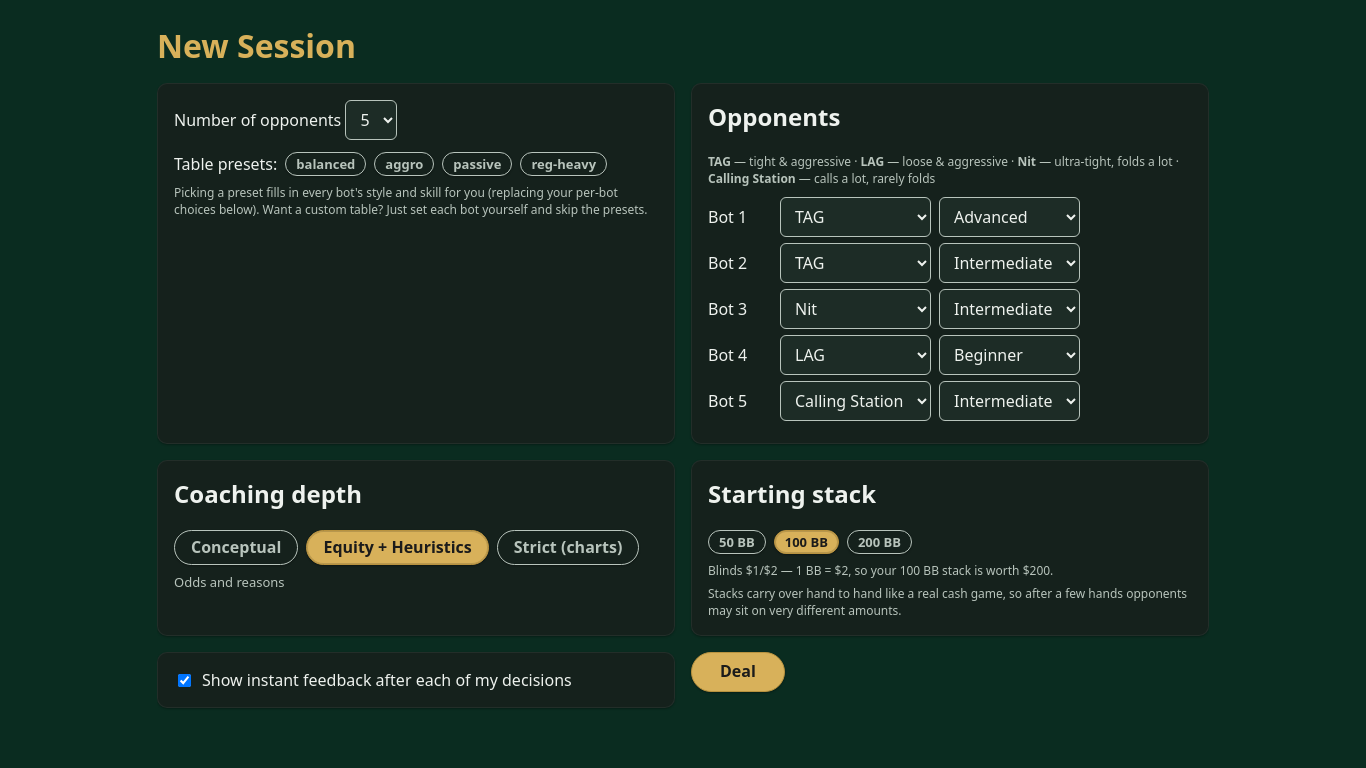
Test: SetupScreen › renders one persona row per opponent and resizes when count changes
This screenshot has width=1366, height=768.
Expected: the number of dropdowns named "Style for Bot" is 5, [780,197,931,237]; [780,243,931,283]; [780,289,931,329]; [780,335,931,375]; [780,381,931,421]
Select "3" in the dropdown labelled "Number of opponents". click: (371, 120)
box: [345,100,397,140]
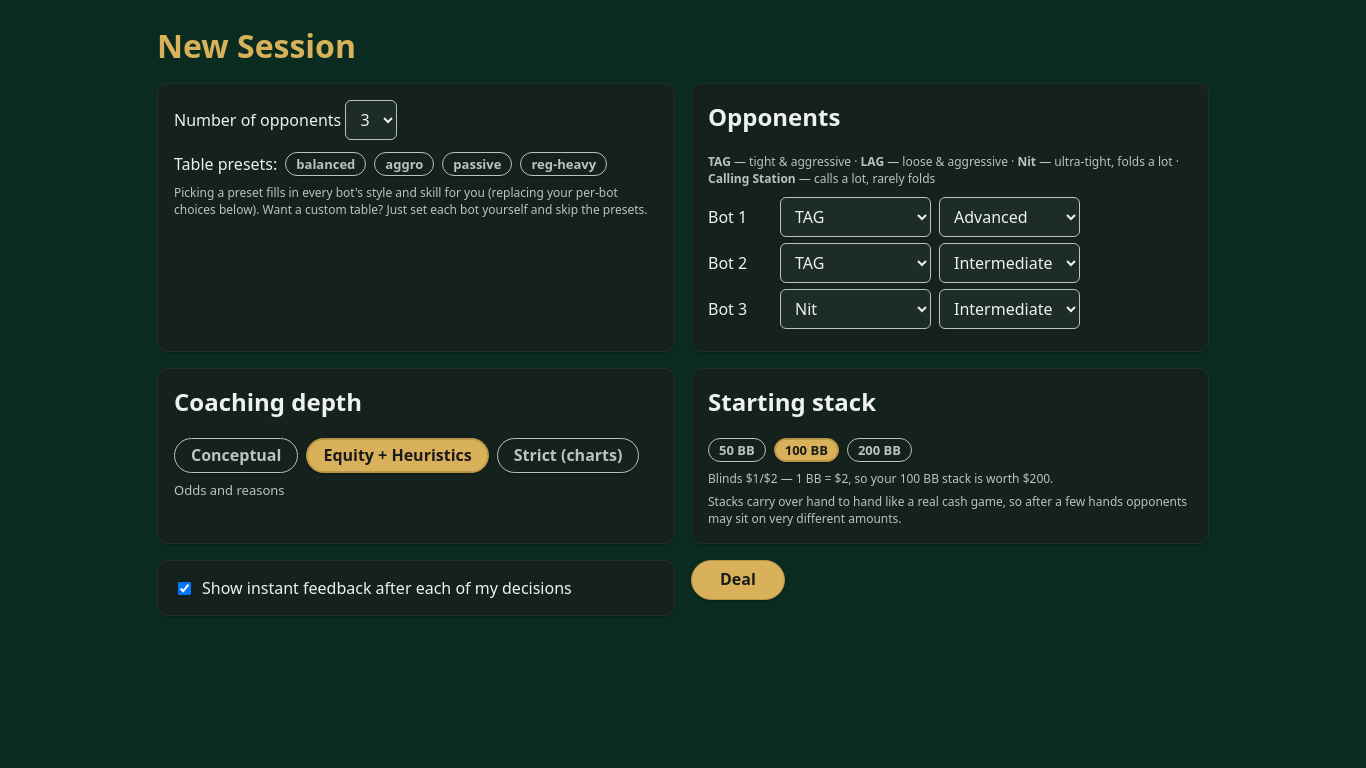
Now the number of dropdowns named "Style for Bot" is 3, box [780,197,931,237]; [780,243,931,283]; [780,289,931,329]
